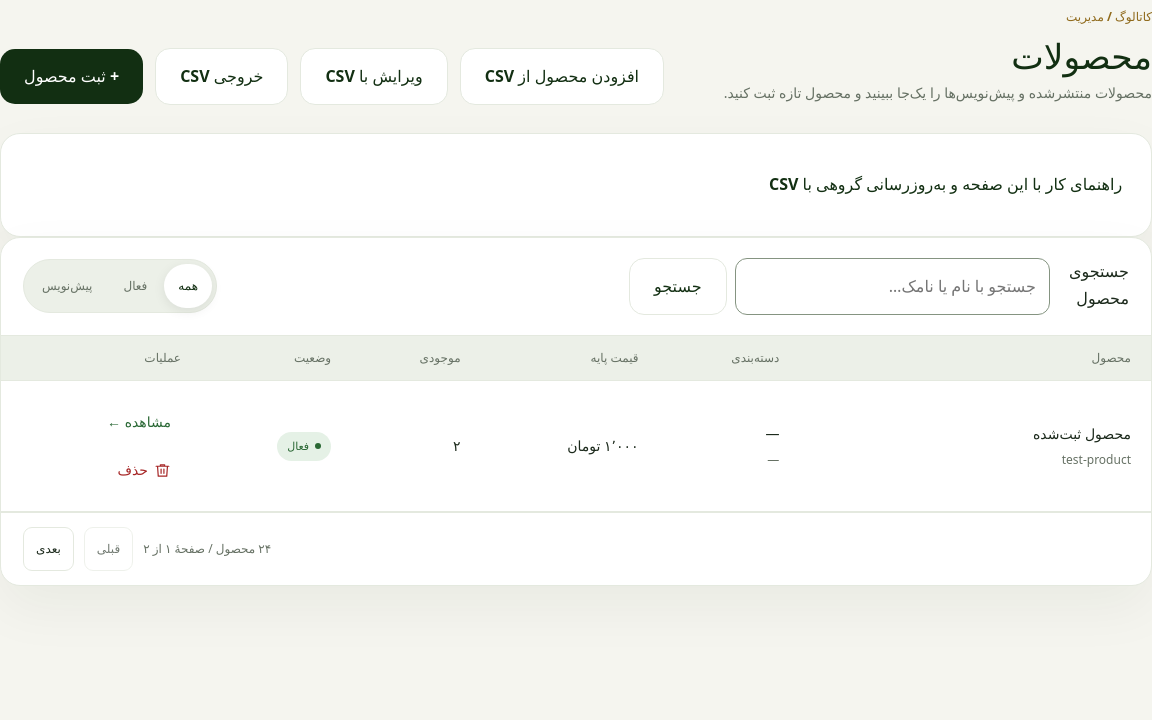
keeps ordered products as inactive rows and accurately reports deactivation
Click the button with aria-label "حذف محصول ثبت‌شده" at (144, 470), box x1=108 y1=448 x2=181 y2=492
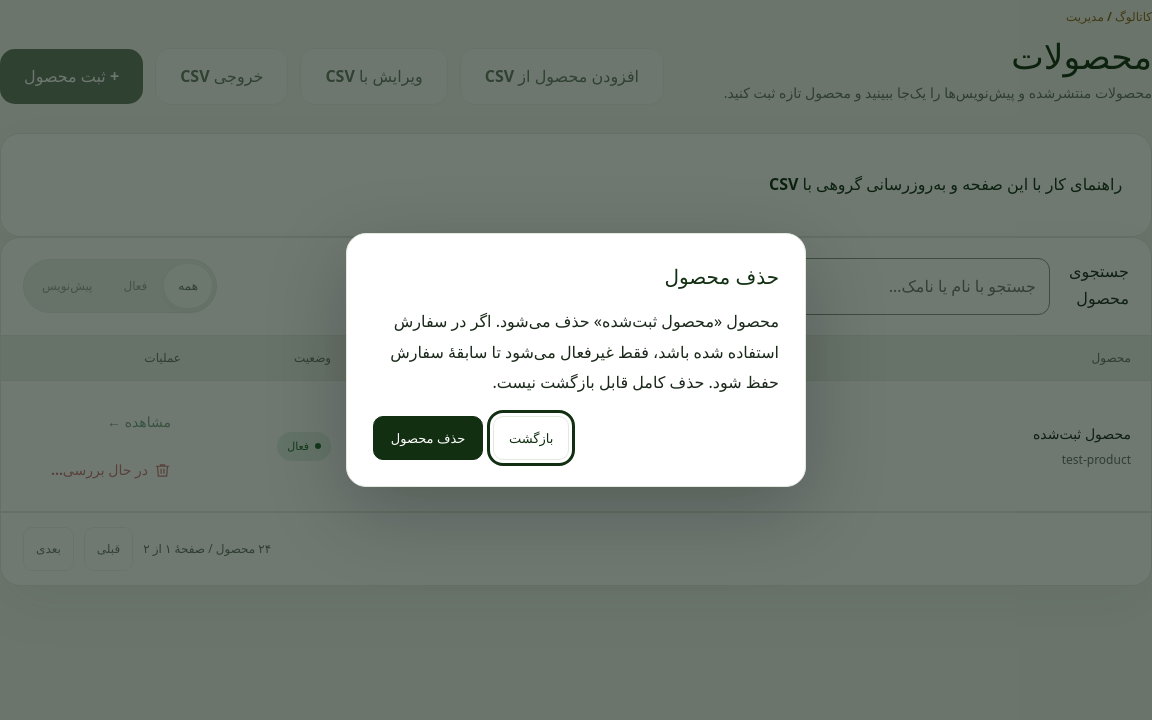
Click the button "حذف محصول" at (428, 438), box x1=373 y1=416 x2=483 y2=460
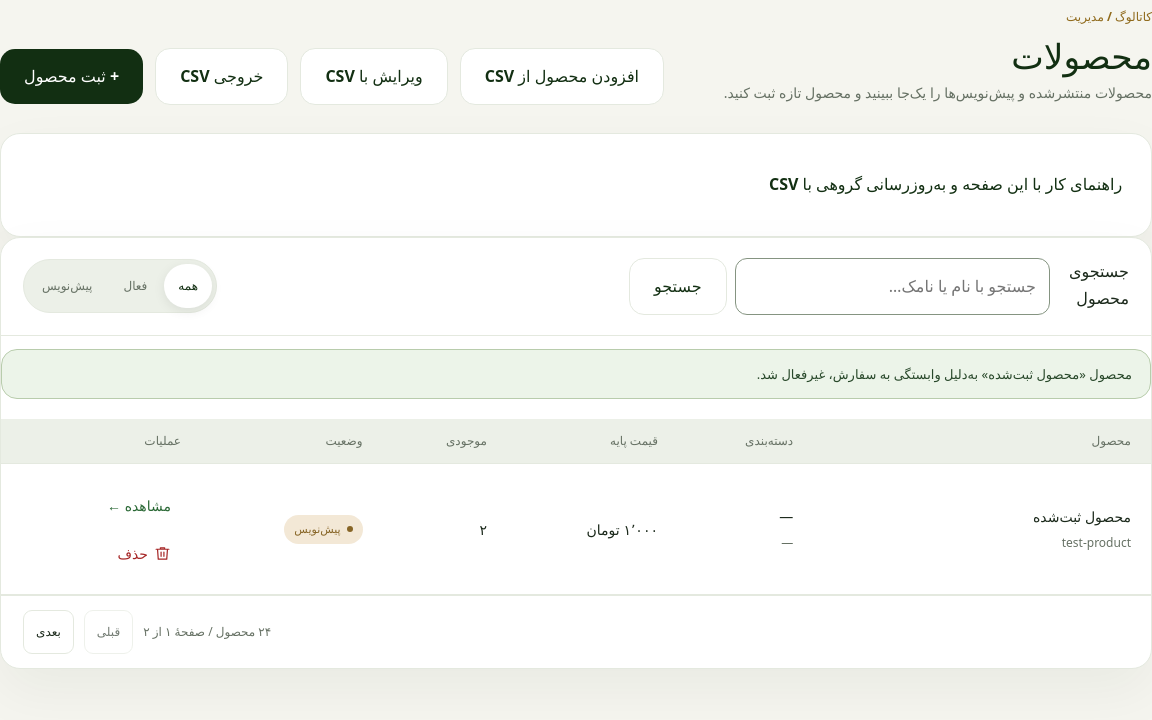
Check: the text "محصول «محصول ثبت‌شده» به‌دلیل وابستگی به سفارش، غیرفعال شد." is shown, box x1=1 y1=349 x2=1151 y2=399
Check: the text "پیش‌نویس" is shown, box x1=284 y1=515 x2=363 y2=544
